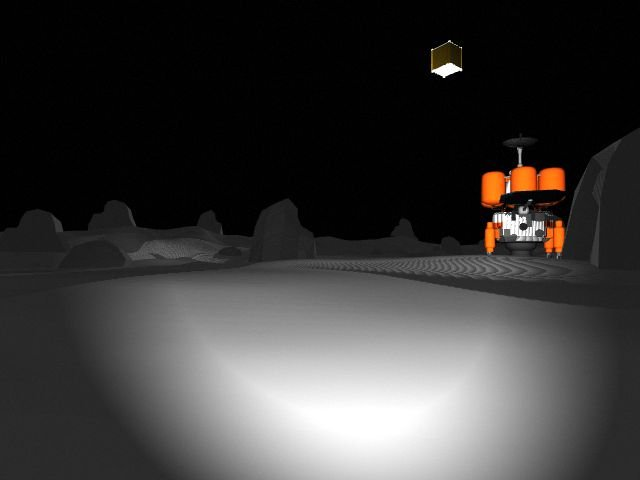cubesat: (426, 37, 466, 88)
